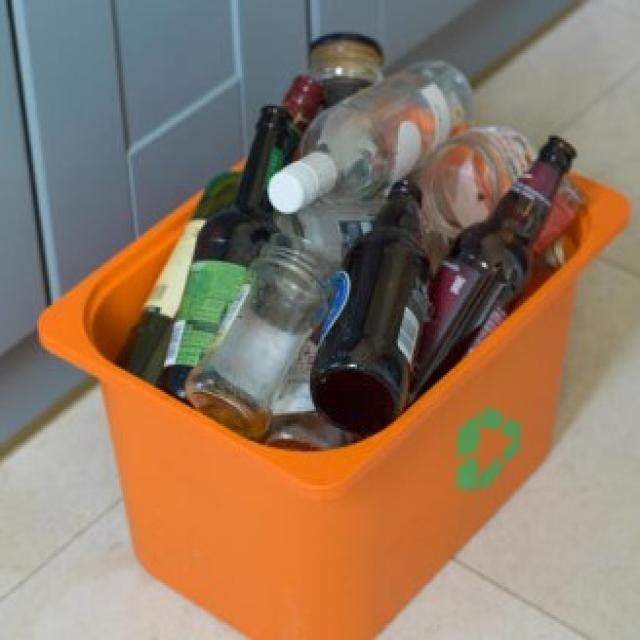electronic: (114, 30, 574, 456)
